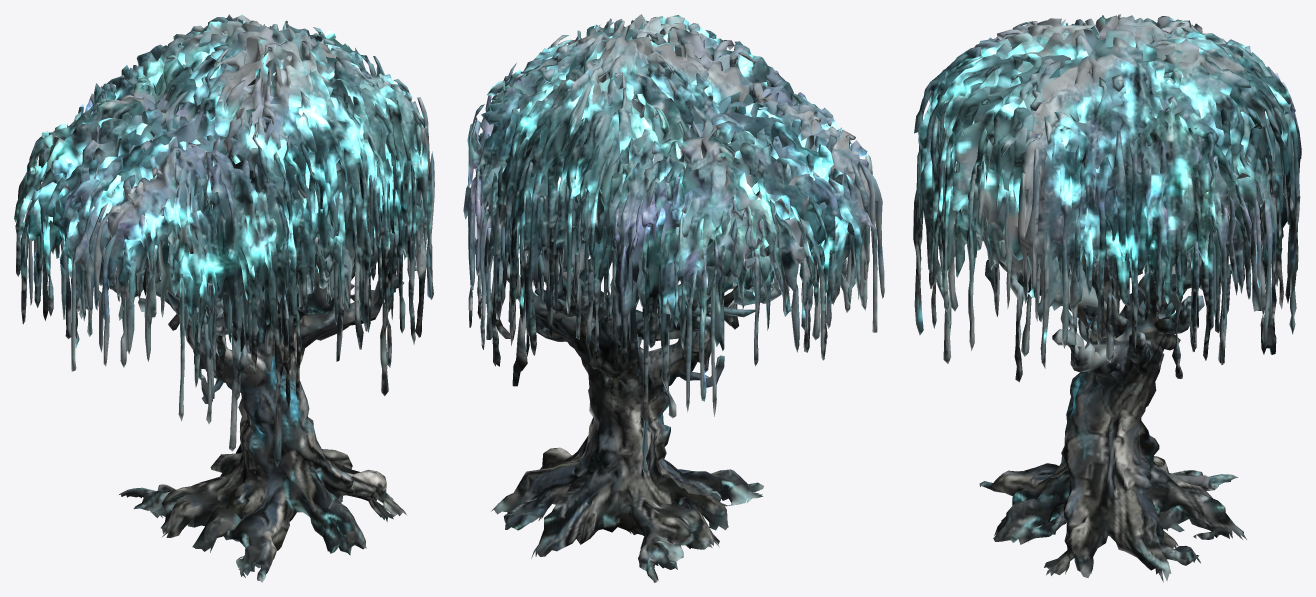
File: cyber_willow_tree.glb
3 views of the same model, side by side, from view 1: azimuth 30°, elevation 25°; view 2: azimuth 150°, elevation 25°; view 3: azimuth 270°, elevation 25° (orthographic). The views are drawn at different scales.
Parts seen in each view (by area): view 1: geometry_0; view 2: geometry_0; view 3: geometry_0.
Boxes of the visible parts, <box> form: geometry_0: <box>14,14,434,582</box>; geometry_0: <box>463,14,884,582</box>; geometry_0: <box>913,14,1301,582</box>.
Bounding box in the file's own units: 9 × 12 × 8.39.
Materials: 1 (1 with a texture image).
